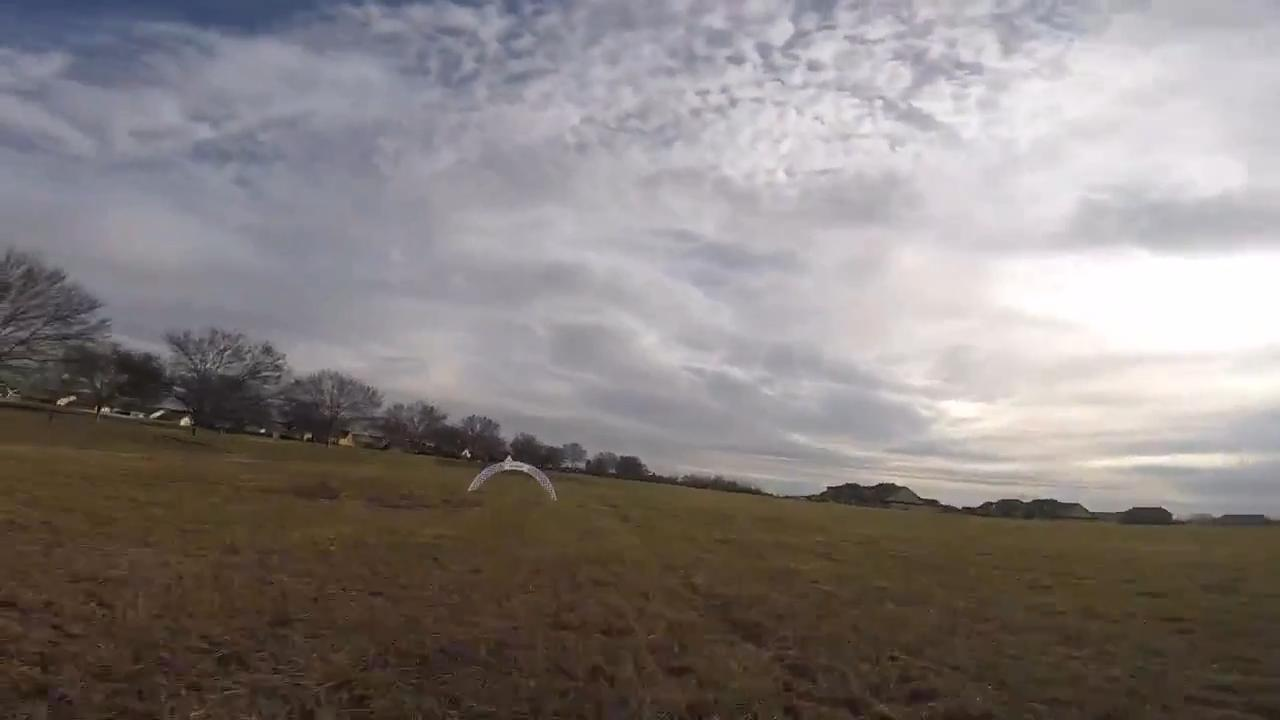gate: (467, 458, 557, 504)
